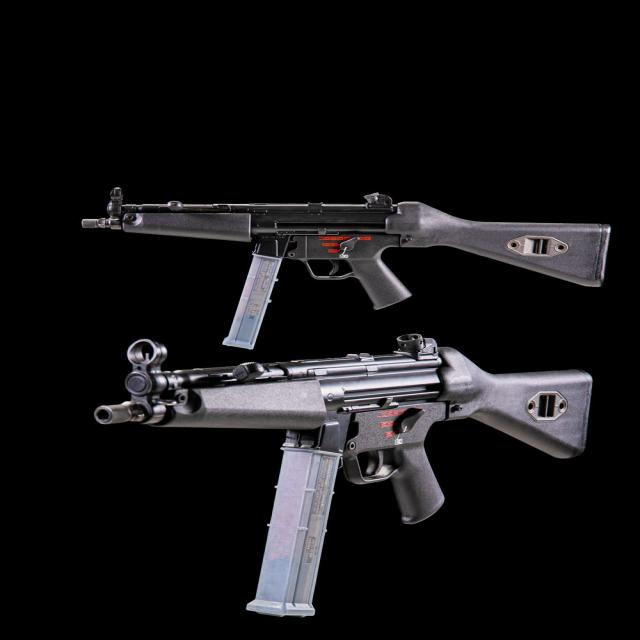SMG: (93, 333, 593, 619), (80, 187, 611, 352)
